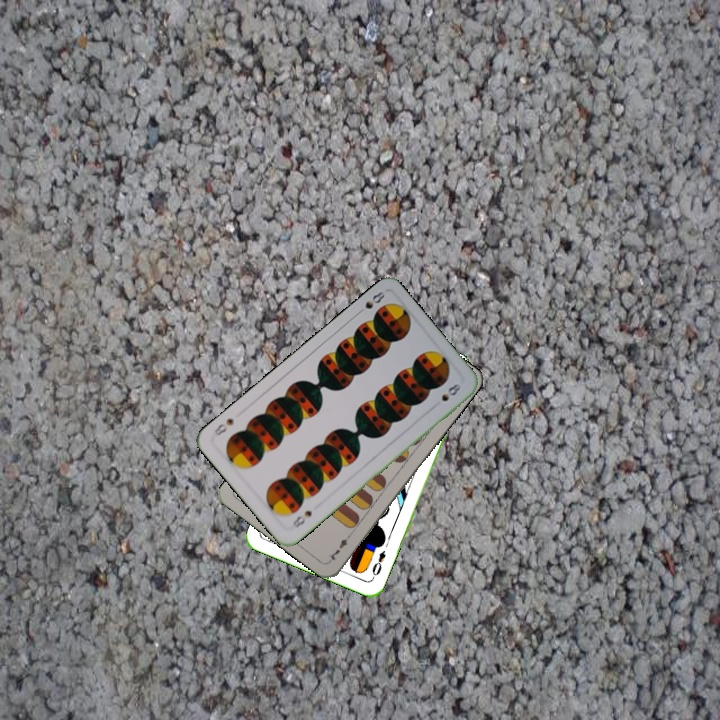E7: (324, 529, 354, 564)
EO: (368, 546, 388, 582)
S8: (352, 287, 388, 318), (289, 506, 314, 531)
